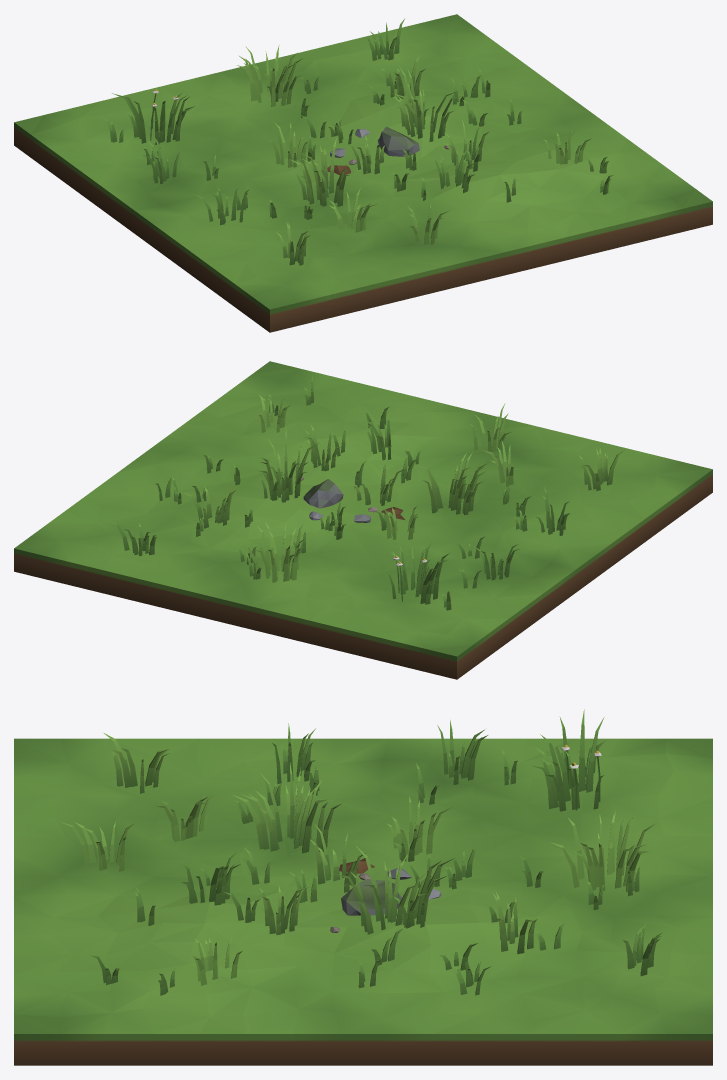
The model's file is grass-tile.glb.
3 views of the same model, one above another, from view 1: azimuth 30°, elevation 25°; view 2: azimuth 150°, elevation 25°; view 3: azimuth 270°, elevation 25° (orthographic). The views are drawn at different scales.
Parts seen in each view (by area): view 1: grass_tile; view 2: grass_tile; view 3: grass_tile.
Part boxes in pixels (x1,y1,x2,y2): grass_tile: (14, 14, 712, 332); grass_tile: (14, 361, 712, 679); grass_tile: (14, 709, 712, 1065).
Size of the model in its own units: 4 by 0.6748 by 4.
